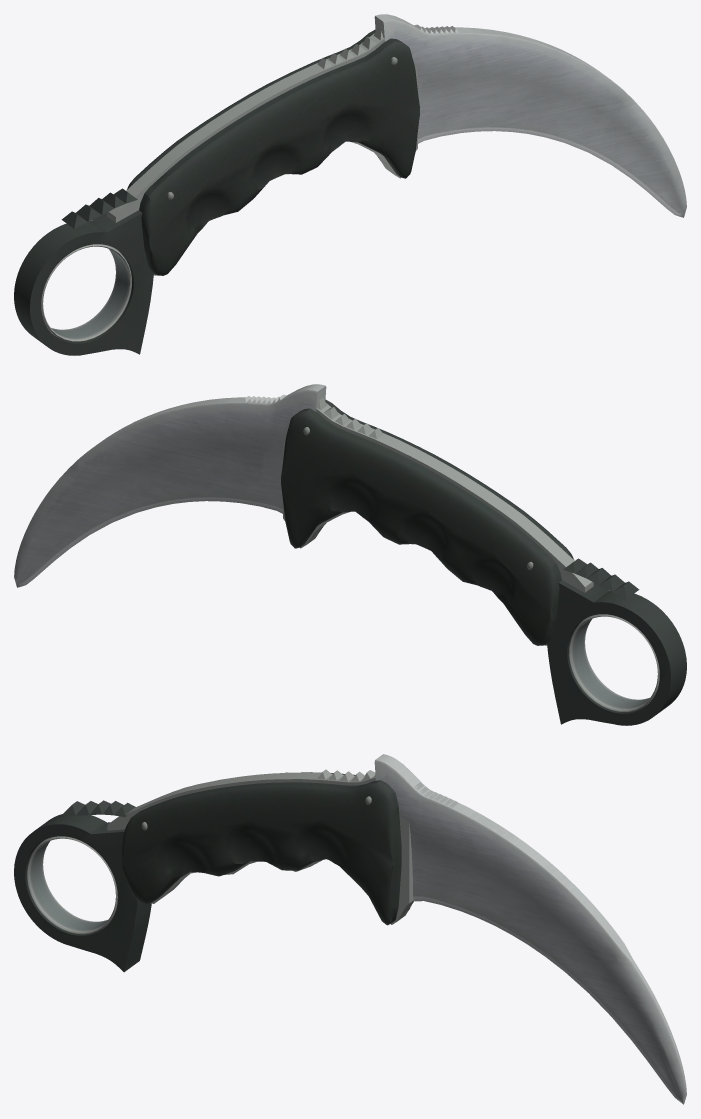
The model's file is karambit_lod1.glb.
3 views of the same model, one above another, from view 1: azimuth 30°, elevation 25°; view 2: azimuth 150°, elevation 25°; view 3: azimuth 330°, elevation 25° (orthographic).
Parts seen in each view (by area): view 1: body; view 2: body; view 3: body.
Part boxes in pixels (left/top/right/bottom): body: left=14, top=14, right=686, bottom=355; body: left=14, top=384, right=686, bottom=725; body: left=14, top=754, right=686, bottom=1104.
Size of the model in its own units: 0.1778 by 0.07 by 0.013.
5 materials, 5 textured.
